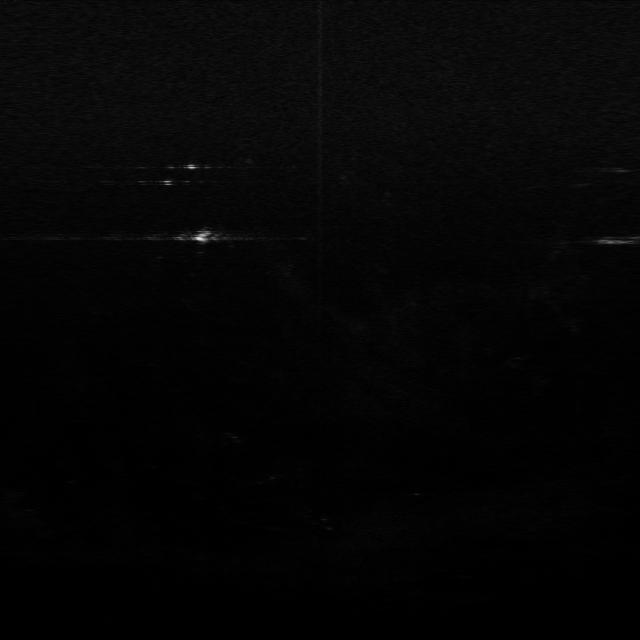rov: (187, 226, 219, 248)
